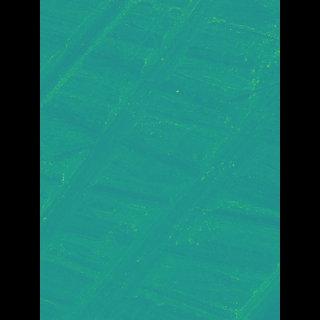Loch: (84, 93, 249, 319), (69, 0, 211, 256), (69, 0, 145, 110)
